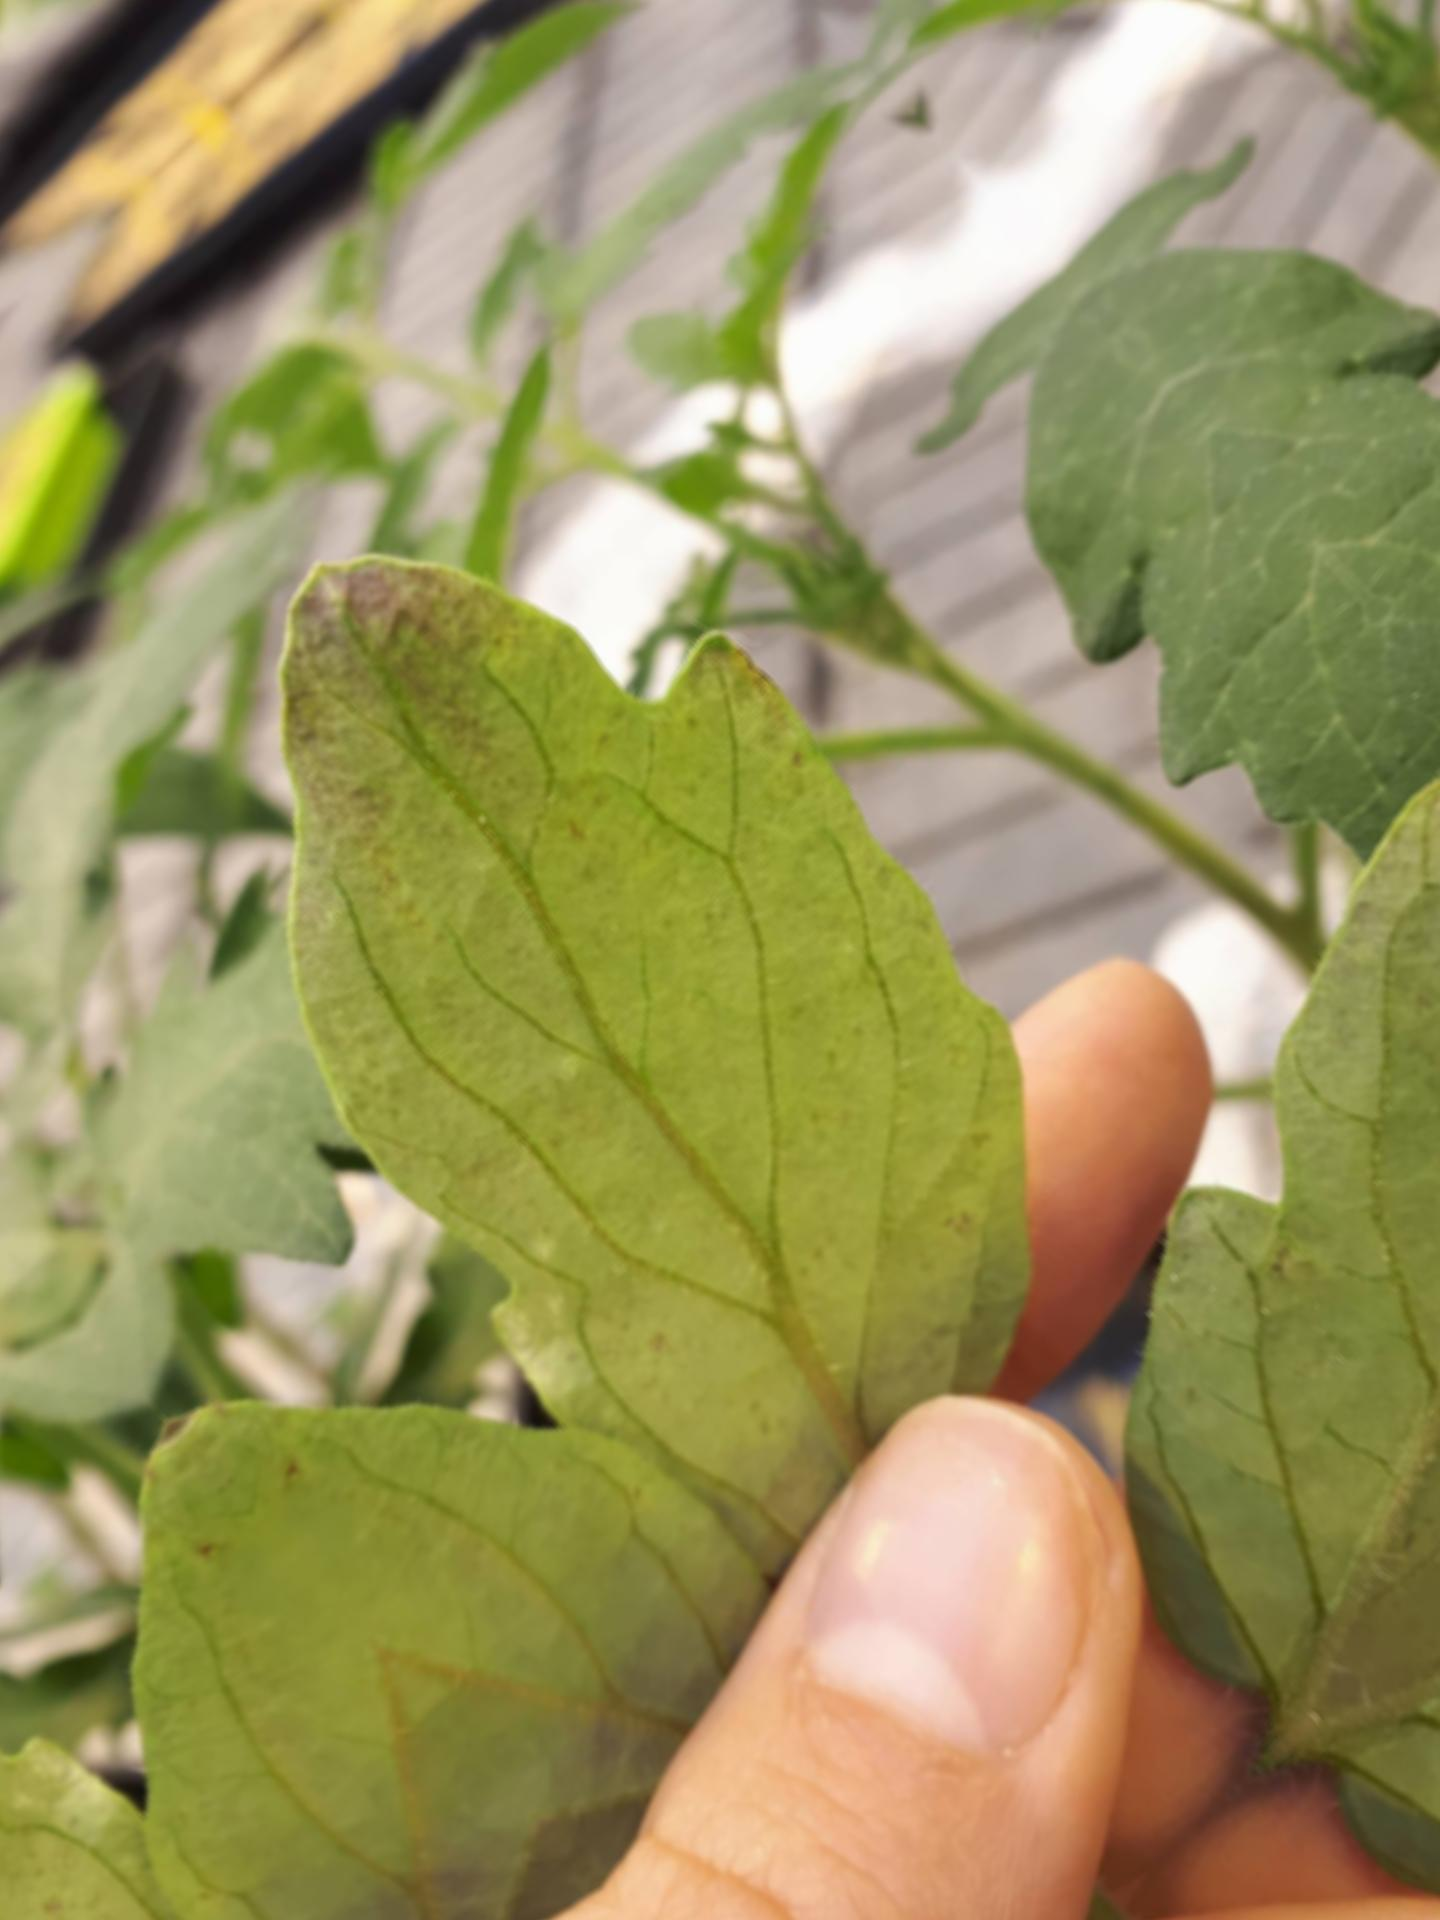Tomato mold leaf: (0, 343, 1313, 1704)
